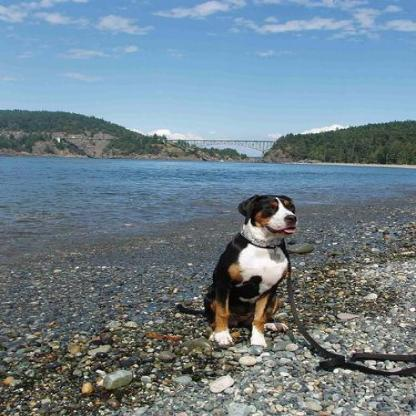Greater_Swiss_Mountain_dog: (171, 191, 300, 346)
